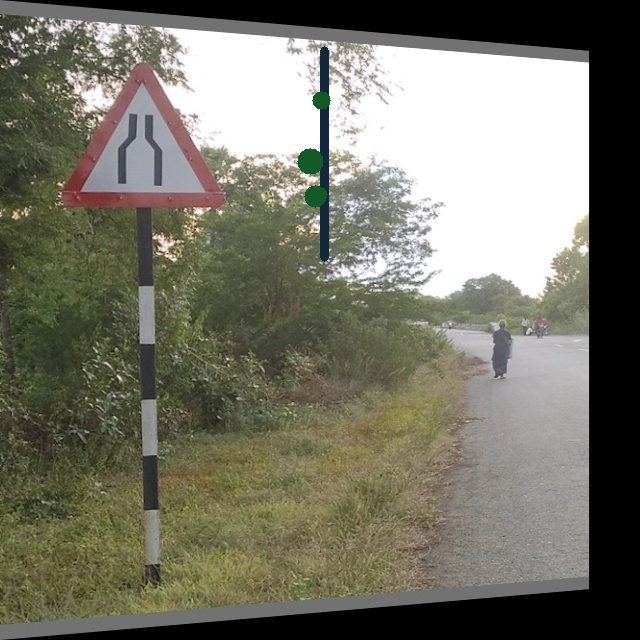Narrow_Road_Ahead: (61, 52, 229, 210)
